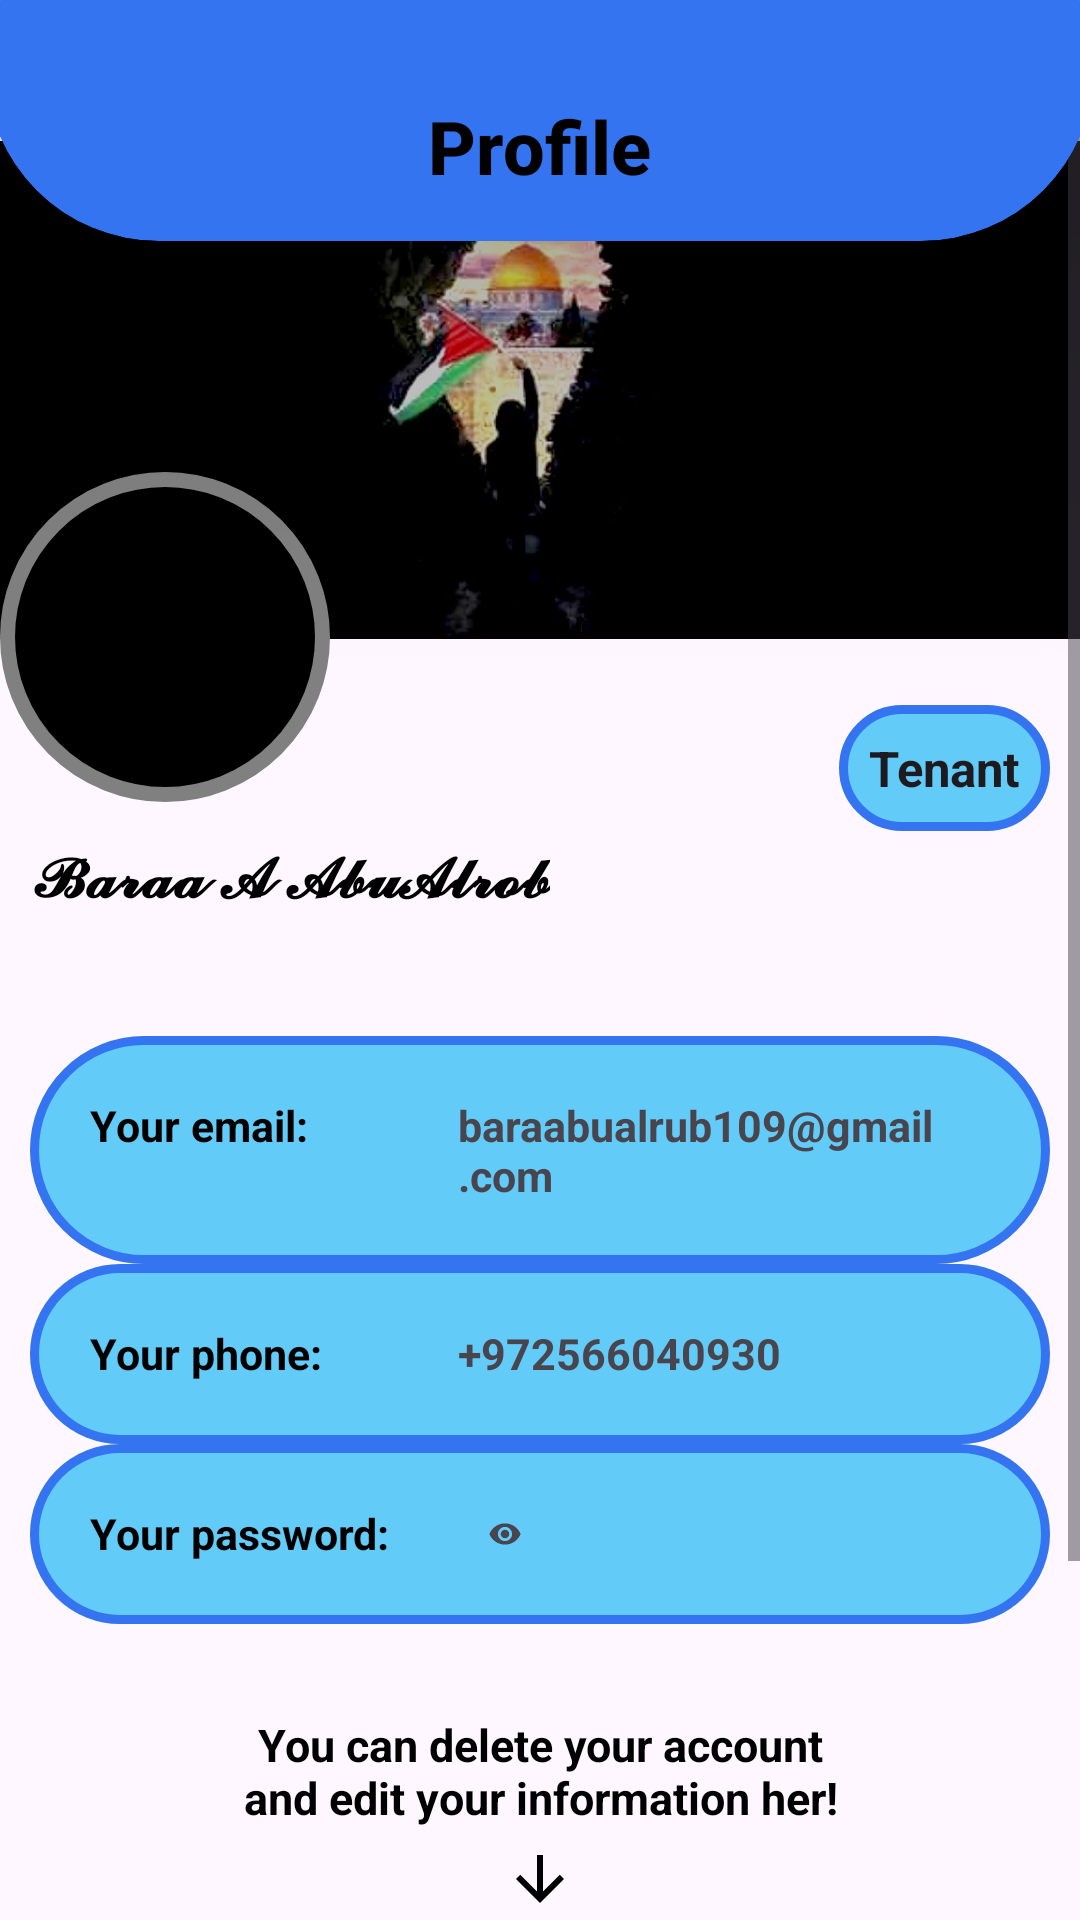

Locate icon controls on the screen. Image size 1080 x 1920, boxes as (x1, y1, x2, y2).
eye: (489, 1523, 521, 1545)
